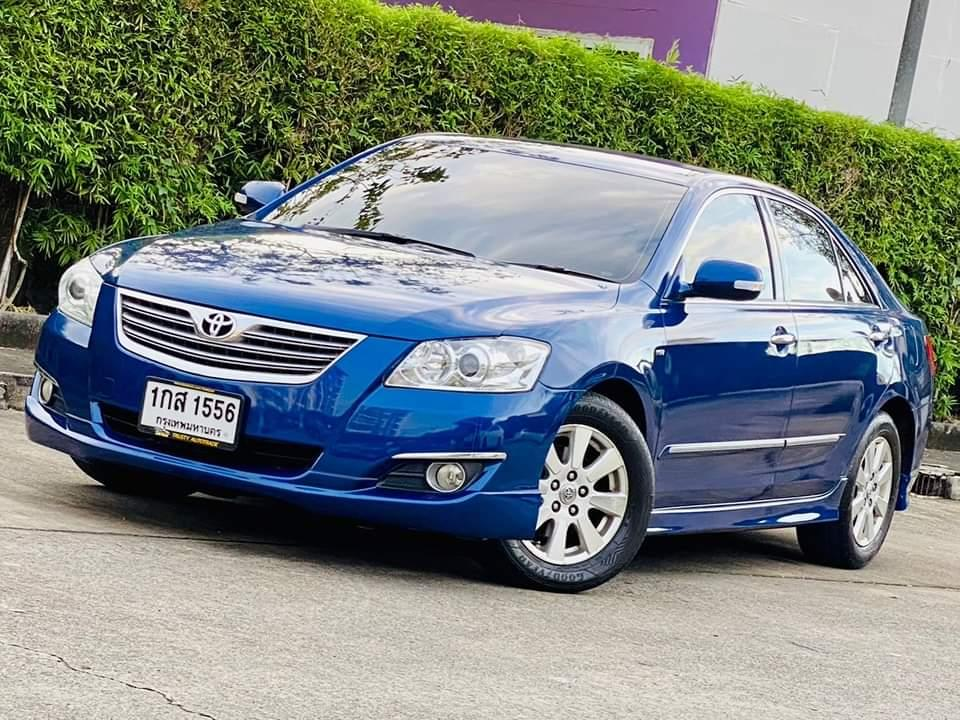license-plate: (132, 370, 252, 457)
